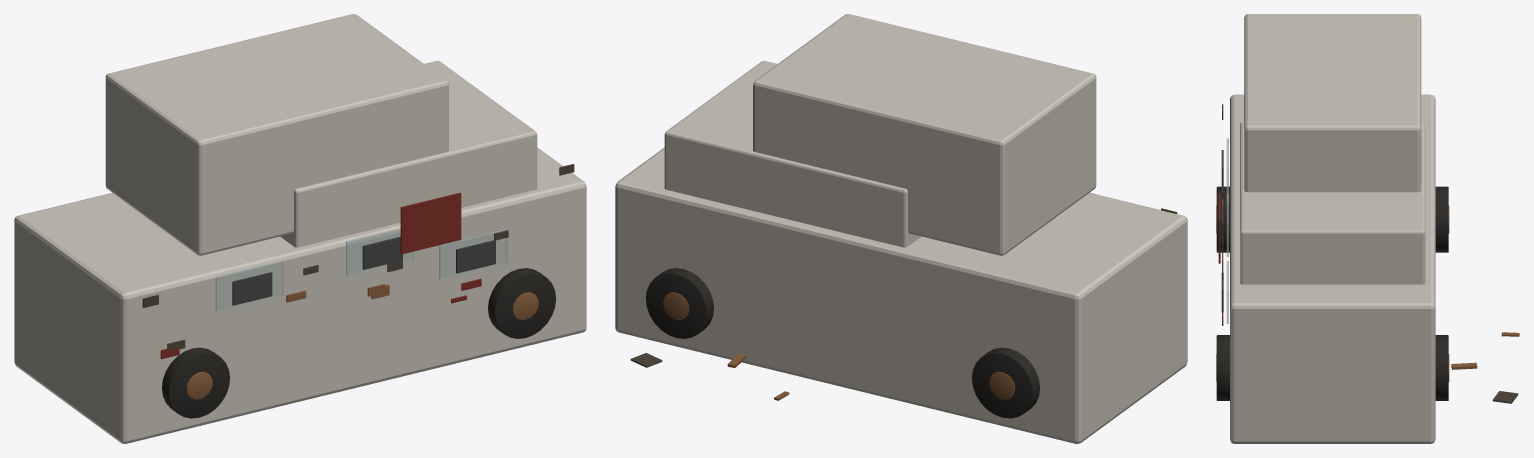
The model's file is dz_vehicle_ambulance_rusted_premium.glb.
3 views of the same model, side by side, from view 1: azimuth 30°, elevation 25°; view 2: azimuth 150°, elevation 25°; view 3: azimuth 270°, elevation 25° (orthographic). The views are drawn at different scales.
Parts seen in each view (by area): view 1: vehicle_lower_body_dented, vehicle_cabin_crushed, box_rear_compartment, flat_muddy_tire_1.75_-1.0659999999999998, flat_muddy_tire_-1.75_-1.0659999999999998, ambulance_faded_red_cross, broken_window_-1.15, broken_window_1.25, broken_window_0.25, window_hole_shadow_-1.15, window_hole_shadow_1.25, window_hole_shadow_0.25 (+2 smaller); view 2: vehicle_lower_body_dented, vehicle_cabin_crushed, box_rear_compartment, flat_muddy_tire_1.75_1.0659999999999998, flat_muddy_tire_-1.75_1.0659999999999998, rusted_wheel_hub_-1.75_1.0659999999999998, rusted_wheel_hub_1.75_1.0659999999999998; view 3: vehicle_lower_body_dented, vehicle_cabin_crushed, box_rear_compartment, flat_muddy_tire_-1.75_1.0659999999999998, flat_muddy_tire_1.75_1.0659999999999998, flat_muddy_tire_1.75_-1.0659999999999998, flat_muddy_tire_-1.75_-1.0659999999999998.
Part boxes in pixels (left/top/right/bottom): vehicle_lower_body_dented: left=14, top=147, right=586, bottom=443; vehicle_cabin_crushed: left=105, top=14, right=448, bottom=255; box_rear_compartment: left=280, top=60, right=537, bottom=247; flat_muddy_tire_1.75_-1.0659999999999998: left=488, top=268, right=556, bottom=338; flat_muddy_tire_-1.75_-1.0659999999999998: left=162, top=347, right=229, bottom=418; ambulance_faded_red_cross: left=400, top=192, right=461, bottom=254; broken_window_-1.15: left=215, top=261, right=283, bottom=312; broken_window_1.25: left=439, top=229, right=507, bottom=280; broken_window_0.25: left=346, top=228, right=413, bottom=276; window_hole_shadow_-1.15: left=232, top=272, right=272, bottom=305; window_hole_shadow_1.25: left=456, top=240, right=495, bottom=273; window_hole_shadow_0.25: left=362, top=236, right=402, bottom=269; vehicle_lower_body_dented: left=615, top=147, right=1187, bottom=443; vehicle_cabin_crushed: left=753, top=14, right=1096, bottom=255; box_rear_compartment: left=664, top=60, right=921, bottom=247; flat_muddy_tire_1.75_1.0659999999999998: left=645, top=268, right=713, bottom=338; flat_muddy_tire_-1.75_1.0659999999999998: left=972, top=347, right=1039, bottom=418; rusted_wheel_hub_-1.75_1.0659999999999998: left=989, top=372, right=1015, bottom=399; rusted_wheel_hub_1.75_1.0659999999999998: left=663, top=292, right=689, bottom=319; vehicle_lower_body_dented: left=1230, top=94, right=1435, bottom=443; vehicle_cabin_crushed: left=1244, top=14, right=1421, bottom=192; box_rear_compartment: left=1240, top=122, right=1425, bottom=284; flat_muddy_tire_-1.75_1.0659999999999998: left=1435, top=186, right=1448, bottom=252; flat_muddy_tire_1.75_1.0659999999999998: left=1435, top=335, right=1448, bottom=400; flat_muddy_tire_1.75_-1.0659999999999998: left=1216, top=335, right=1229, bottom=400; flat_muddy_tire_-1.75_-1.0659999999999998: left=1216, top=186, right=1229, bottom=252.
Size of the model in its own units: 5 by 2.85 by 3.02.
